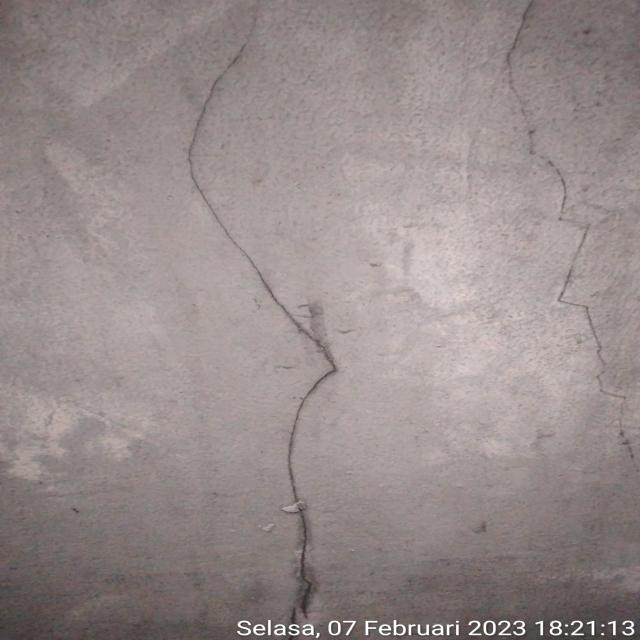Crack: (178, 5, 346, 612), (494, 3, 627, 414)
